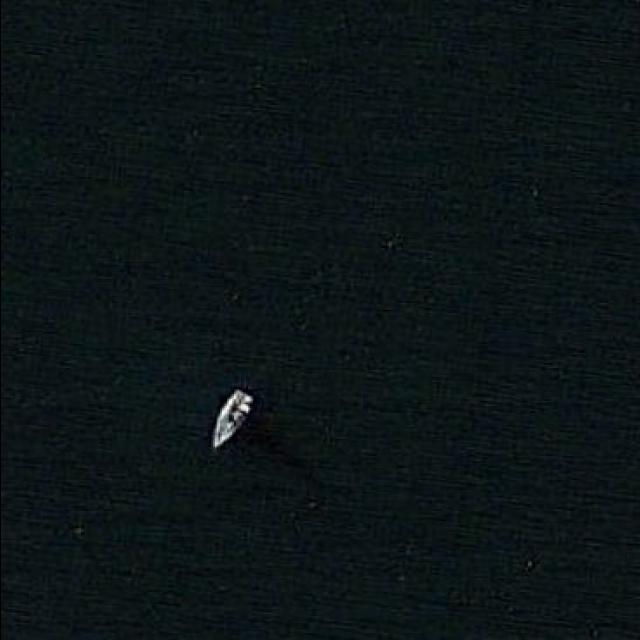ship: (209, 385, 254, 451)
